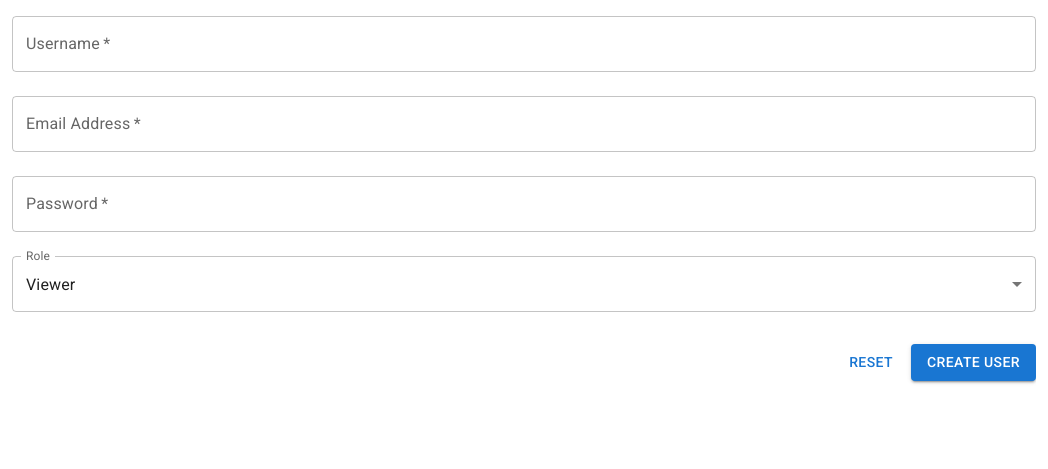
Test: UserForm Component › validates email format
The width and height of the screenshot is (1048, 469).
# Fill in an invalid email
Type "invalid-email" into the field labelled "Email Address *".
click(524, 124); type("invalid-email")  # box [12, 96, 1036, 152]
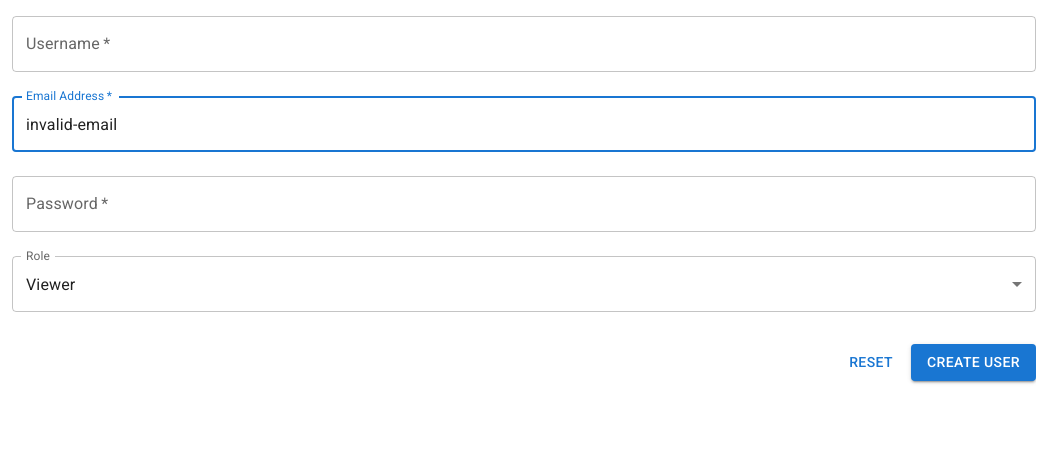
# Submit the form
Click the button "Create User".
click(974, 362)  # box [911, 344, 1036, 380]
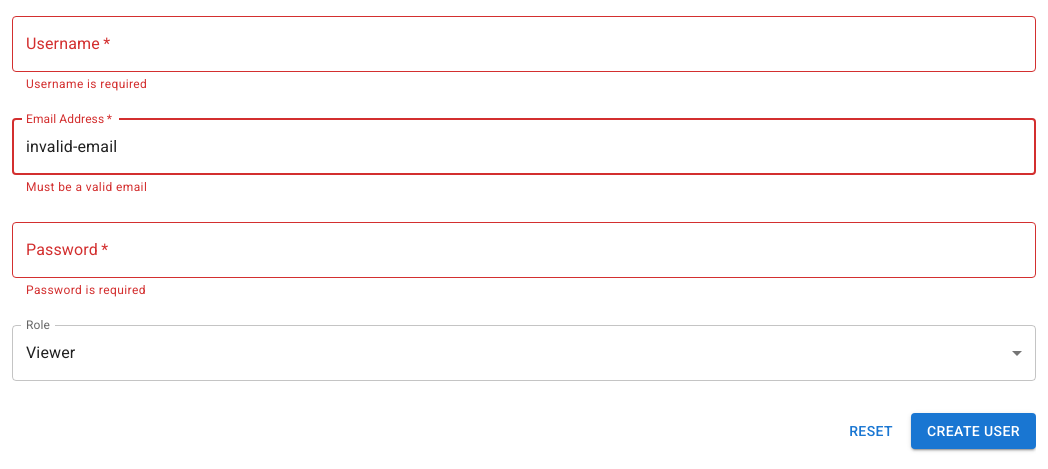
Expected: the text "Must be a valid email" is shown, [26, 180, 147, 194]
